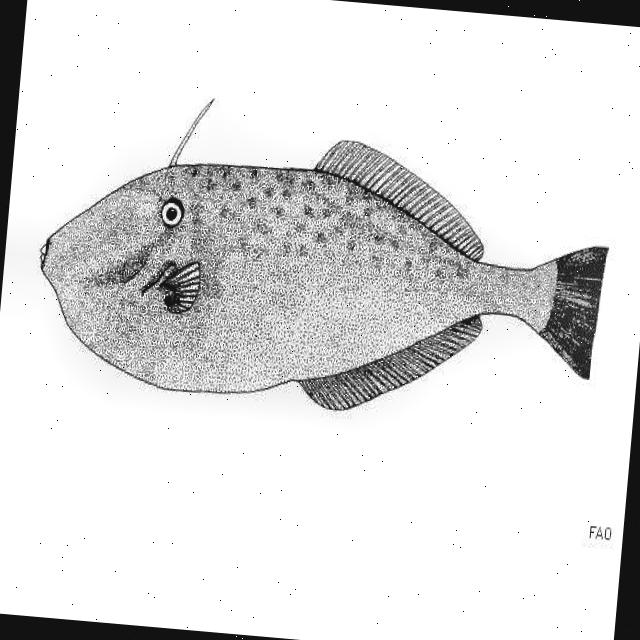fish: (28, 82, 620, 432)
